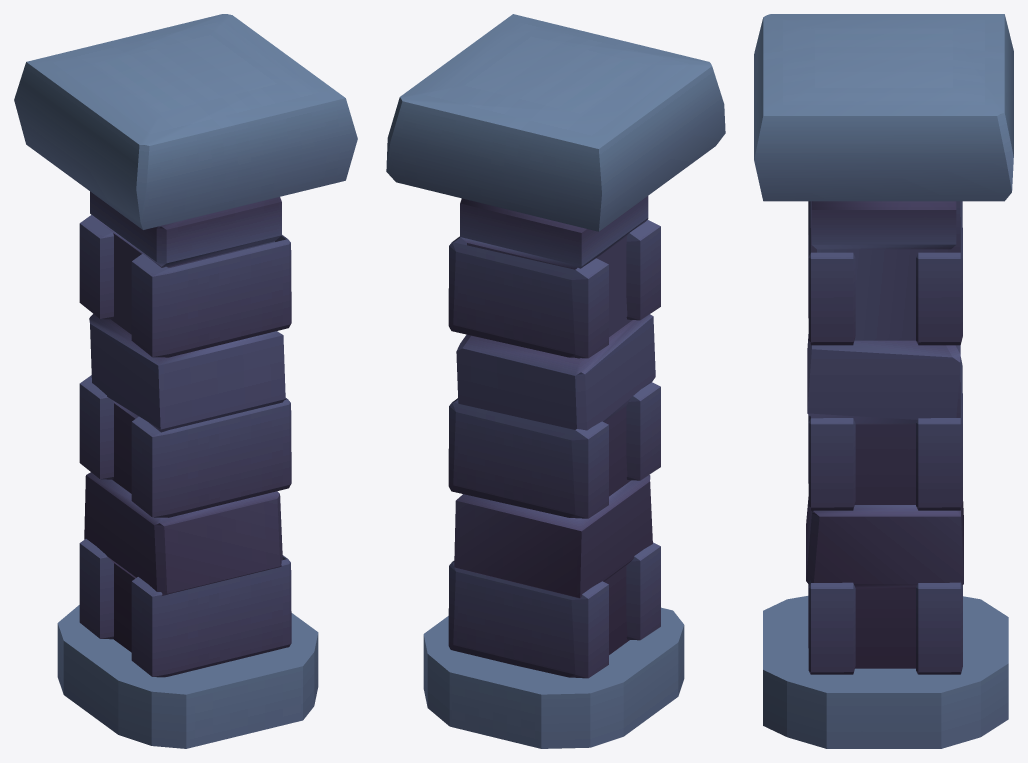
File: StonePillar.fbx
The picture shows the model from 3 angles, left to right: view 1: azimuth 30°, elevation 25°; view 2: azimuth 150°, elevation 25°; view 3: azimuth 270°, elevation 25°; orthographic projection. The views are drawn at different scales.
Visible parts, largest first — view 1: pasted__pCube474; view 2: pasted__pCube474; view 3: pasted__pCube474.
Boxes of the visible parts, <box> form: pasted__pCube474: <box>14,14,357,748</box>; pasted__pCube474: <box>386,14,725,748</box>; pasted__pCube474: <box>754,14,1013,748</box>.
Bounding box in the file's own units: 2.17 × 5.89 × 2.17.
